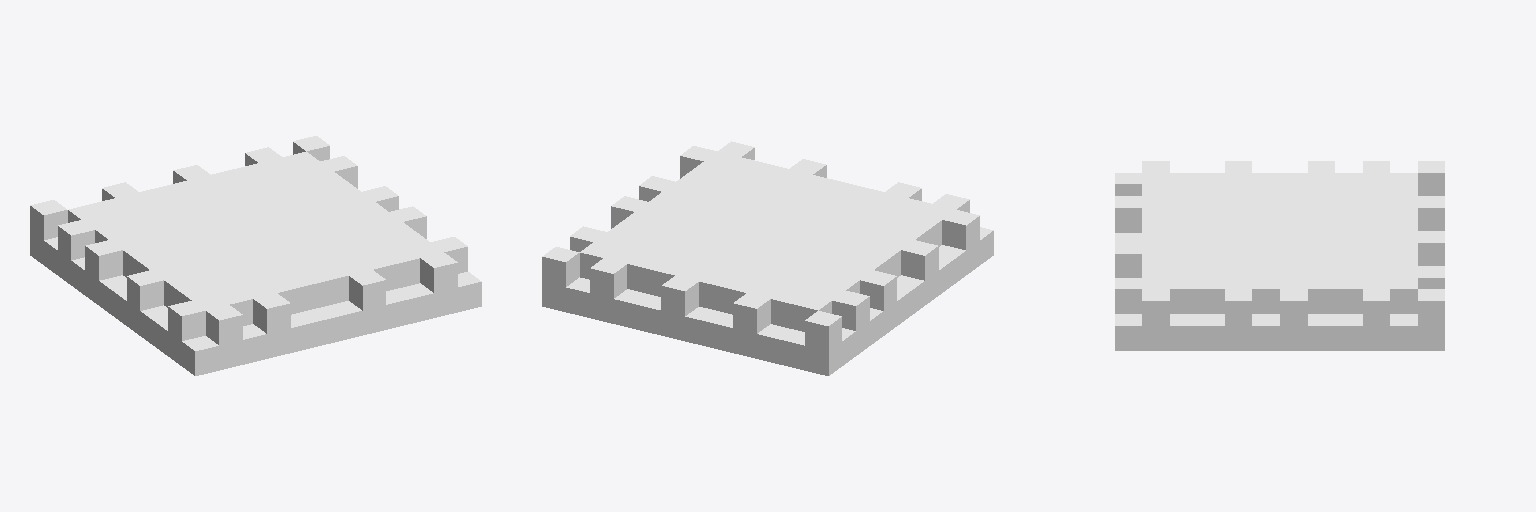
File: springpanelpanel.obj
3 views of the same model, side by side, from view 1: azimuth 30°, elevation 25°; view 2: azimuth 150°, elevation 25°; view 3: azimuth 270°, elevation 25° (orthographic).
Parts seen in each view (by area): view 1: springpanelpanel; view 2: springpanelpanel; view 3: springpanelpanel.
Boxes of the visible parts, x1,y1,x2,y2 form: springpanelpanel: [30, 136, 481, 375]; springpanelpanel: [542, 141, 993, 375]; springpanelpanel: [1115, 161, 1444, 350].
Size of the model in its own units: 12 by 2 by 12.